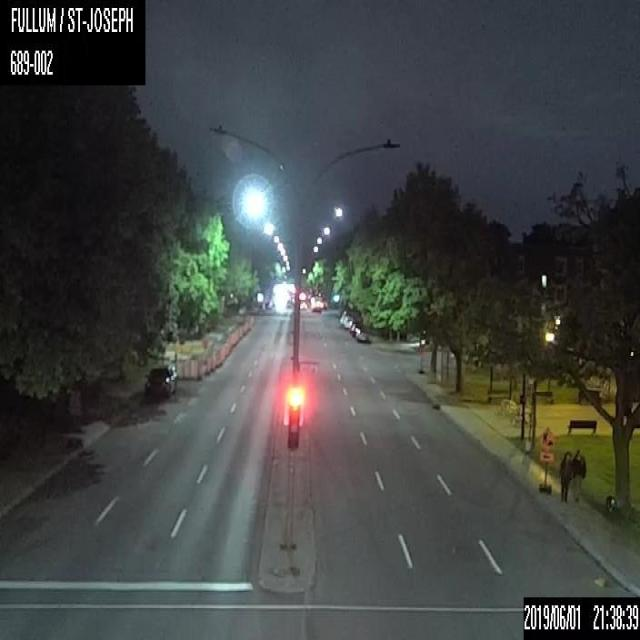construction: (537, 426, 553, 494), (181, 358, 188, 378), (188, 359, 195, 378), (196, 360, 202, 380), (210, 354, 215, 371), (204, 357, 209, 373)
pedestrian: (572, 448, 585, 504), (558, 450, 572, 502)
vehicle: (144, 362, 176, 402), (355, 328, 368, 343)
